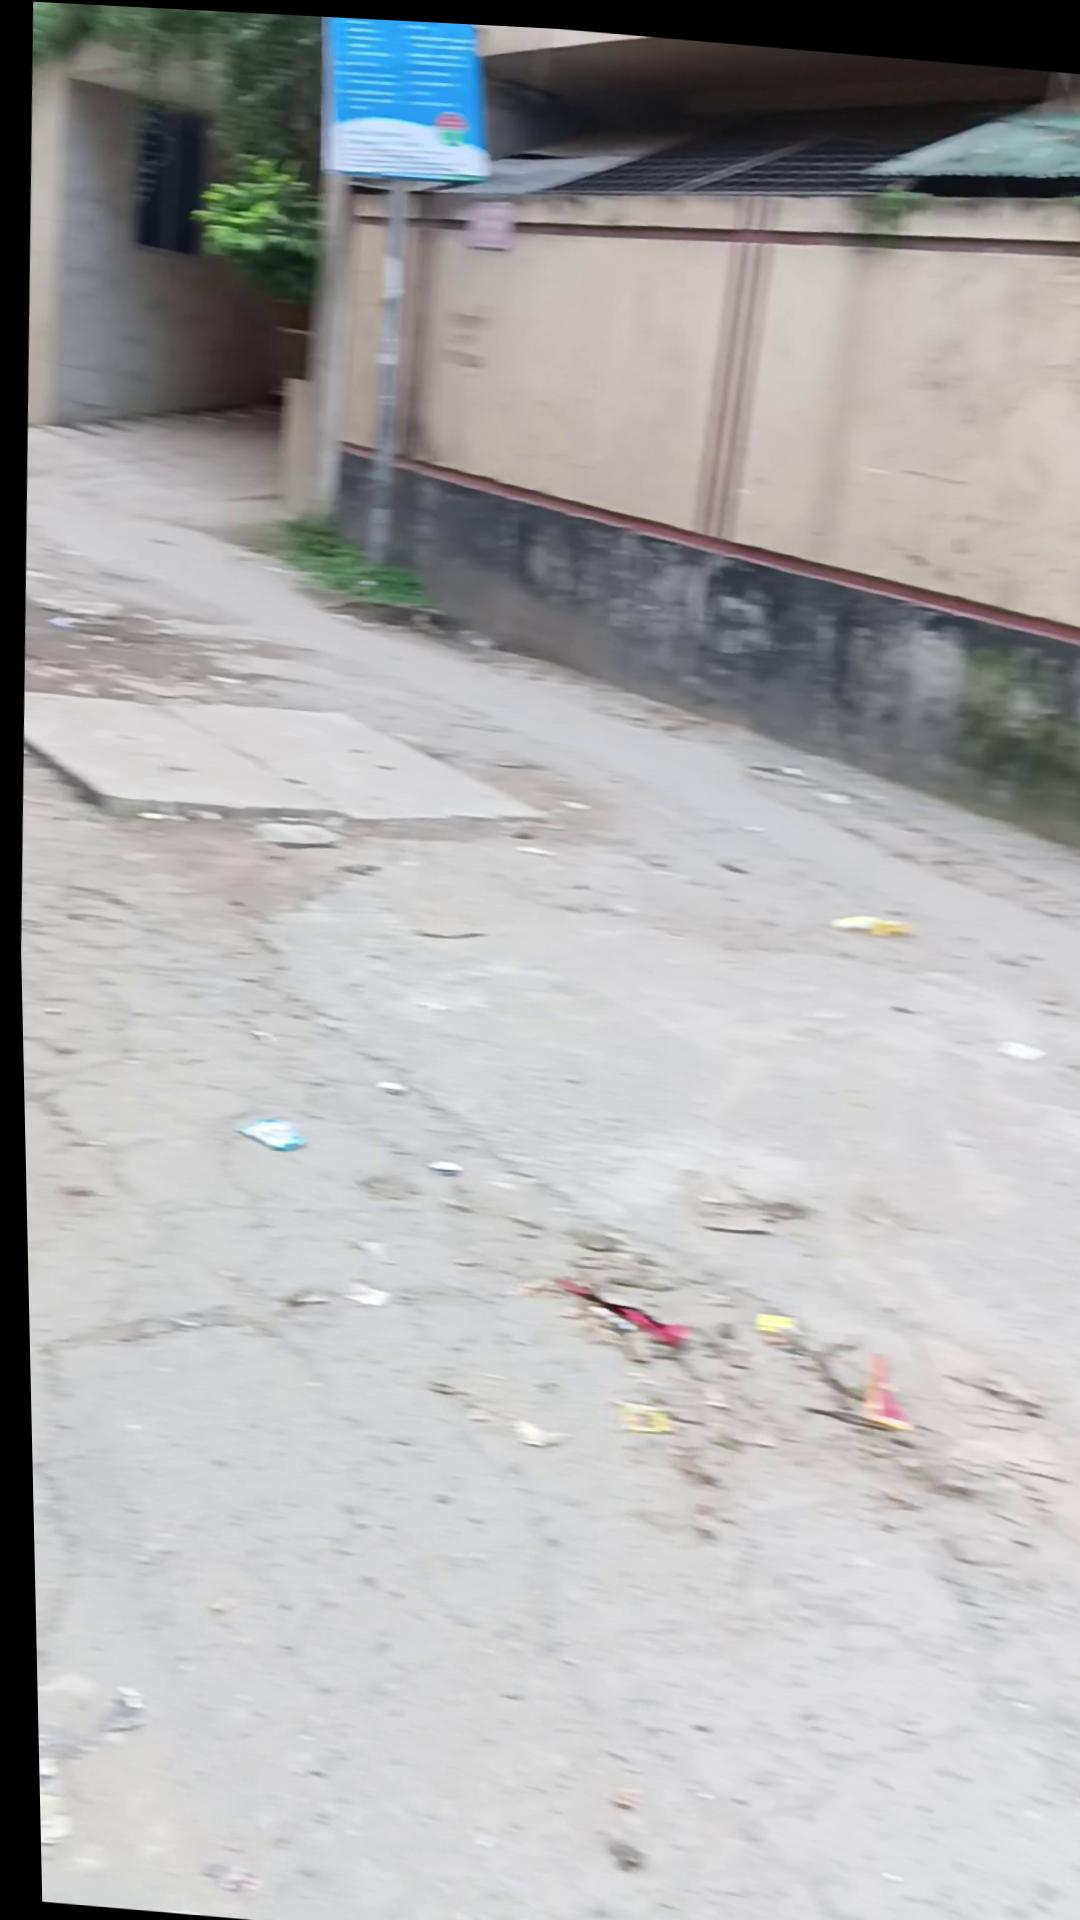Broken-road: (8, 436, 1080, 1920)
Crosswalk: (327, 430, 1080, 641), (18, 676, 546, 851)
Obstacle: (355, 179, 415, 564)
Pole: (179, 142, 328, 400)
